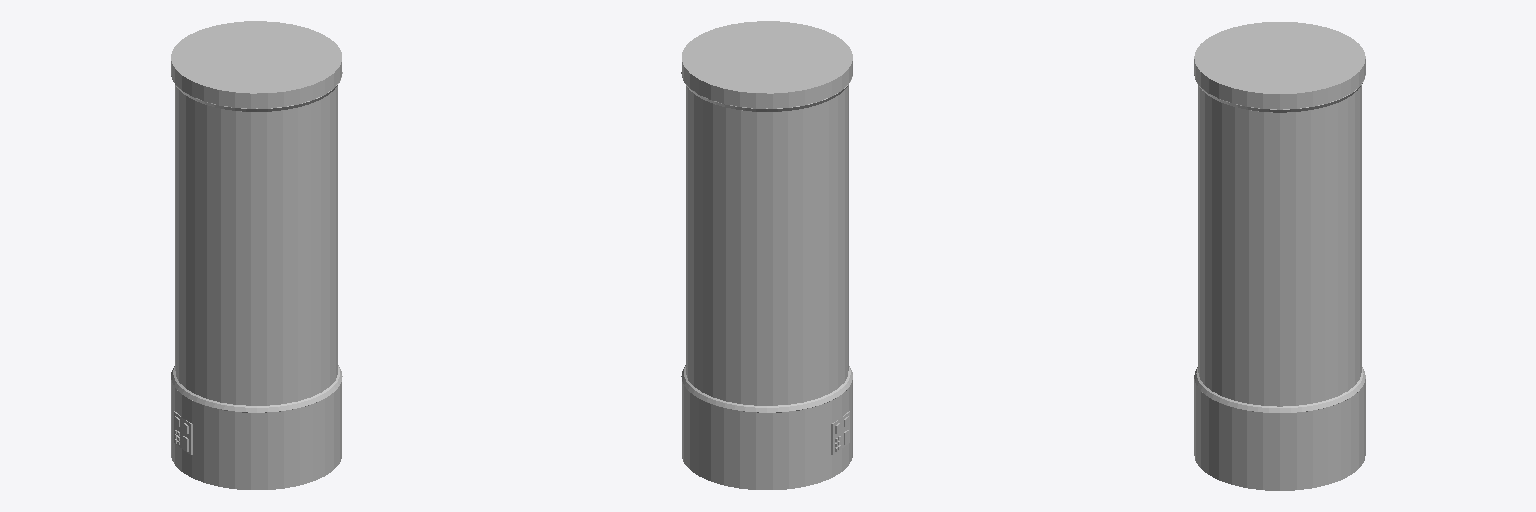
File: pillar.obj
3 views of the same model, side by side, from view 1: azimuth 30°, elevation 25°; view 2: azimuth 150°, elevation 25°; view 3: azimuth 270°, elevation 25° (orthographic).
Visible parts, largest first — view 1: Cylinder.001, Cylinder, Cylinder.002, Torus.001; view 2: Cylinder.001, Cylinder, Cylinder.002, Torus.001; view 3: Cylinder.001, Cylinder, Cylinder.002, Torus.001.
Boxes of the visible parts, box(x1,y1,x2,y2) form: Cylinder.001: box(175, 85, 337, 405); Cylinder: box(171, 380, 341, 489); Cylinder.002: box(171, 21, 341, 108); Torus.001: box(171, 365, 342, 412); Cylinder.001: box(686, 85, 848, 405); Cylinder: box(682, 380, 852, 489); Cylinder.002: box(682, 21, 852, 108); Torus.001: box(681, 365, 852, 412); Cylinder.001: box(1198, 85, 1361, 406); Cylinder: box(1194, 379, 1365, 490); Cylinder.002: box(1194, 22, 1365, 109); Torus.001: box(1194, 367, 1365, 412).
Size of the model in its own units: 2.02 by 5.1 by 2.